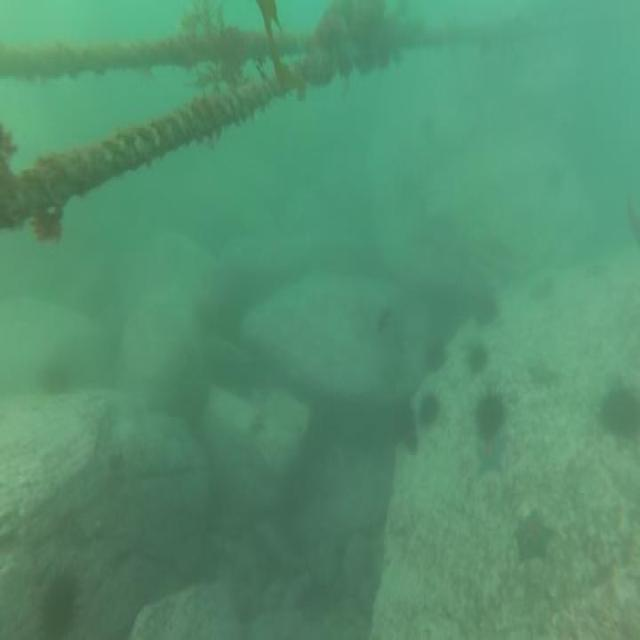echinus: (595, 379, 640, 445), (38, 569, 79, 640), (474, 388, 506, 446), (36, 357, 74, 398), (471, 291, 502, 332), (415, 389, 442, 433), (543, 153, 567, 196), (422, 337, 448, 376), (464, 340, 490, 379), (415, 109, 438, 144)
starfish: (513, 506, 555, 569), (475, 436, 505, 485), (525, 356, 561, 395), (244, 404, 268, 442)
